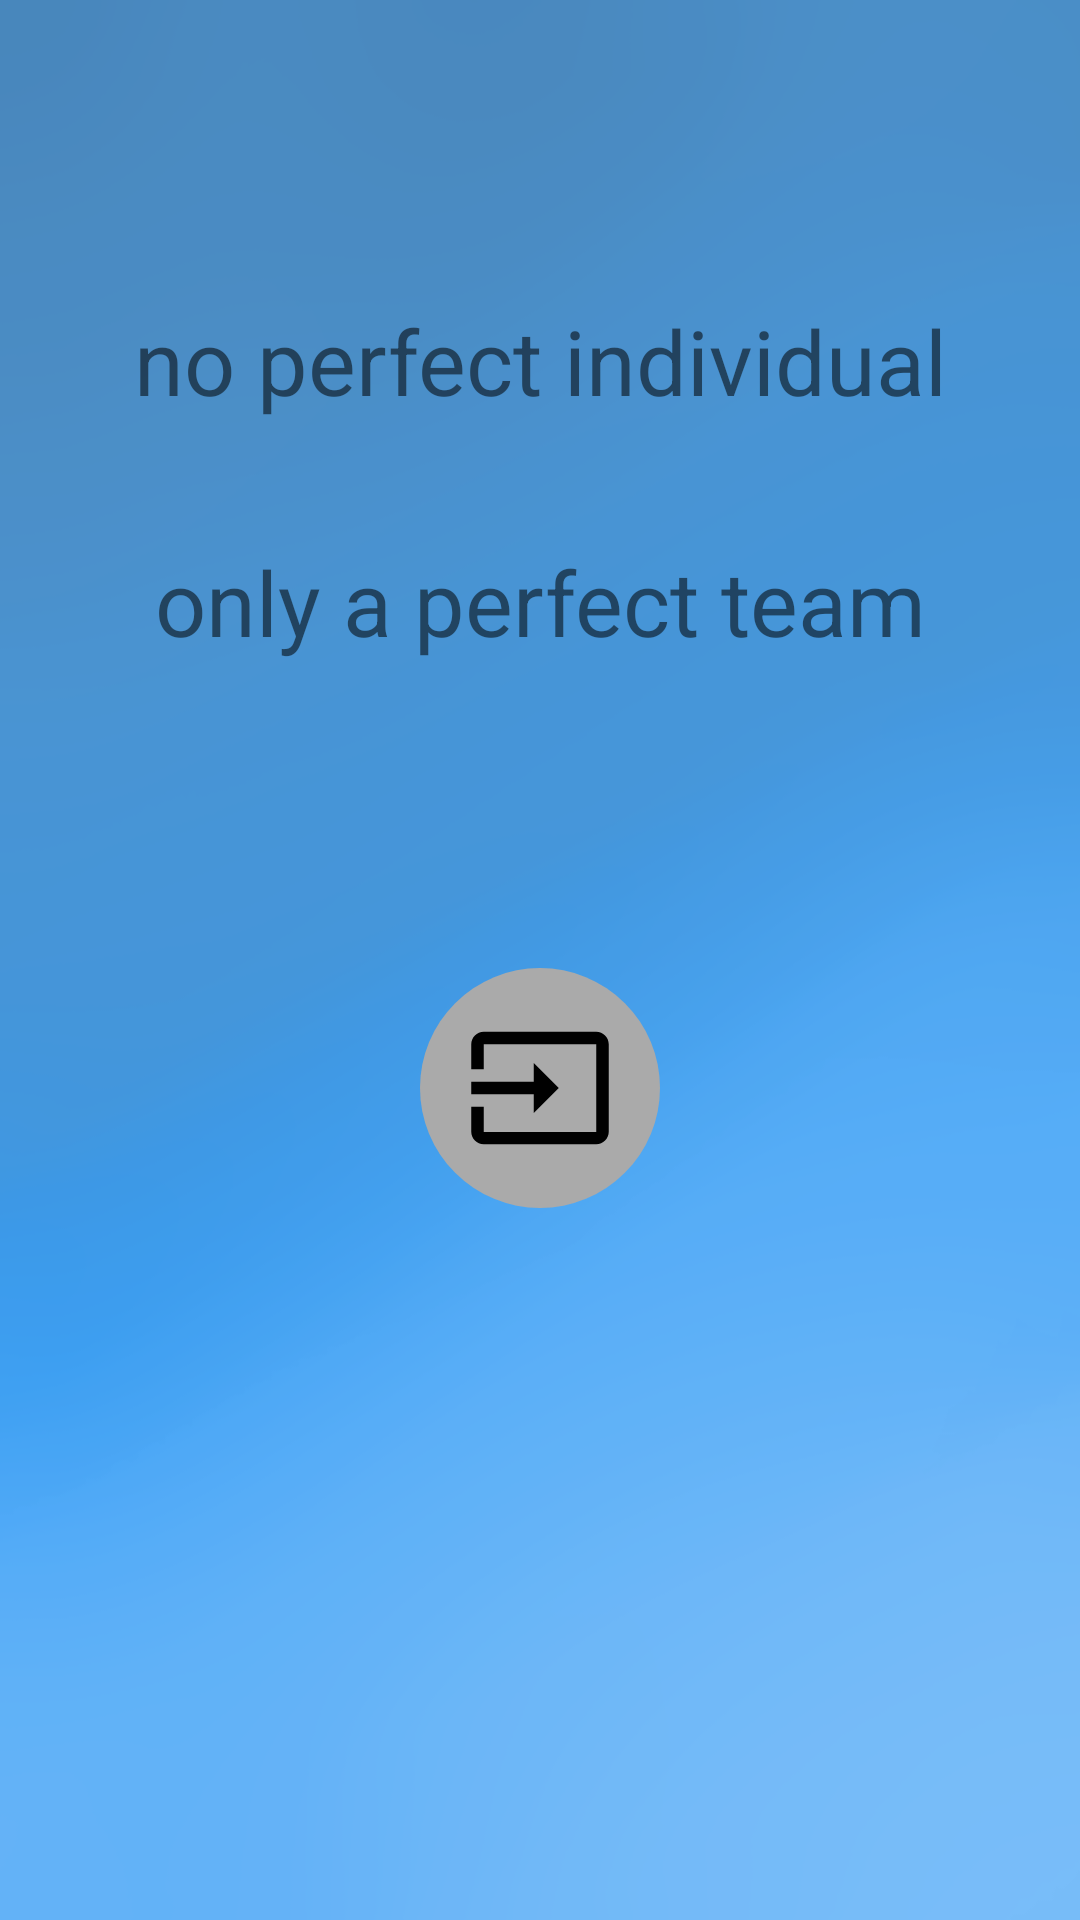

Where icons sit on this 1080×1920 app screen, as (x1,y1,x2,y2):
input: (420,968,660,1208)
